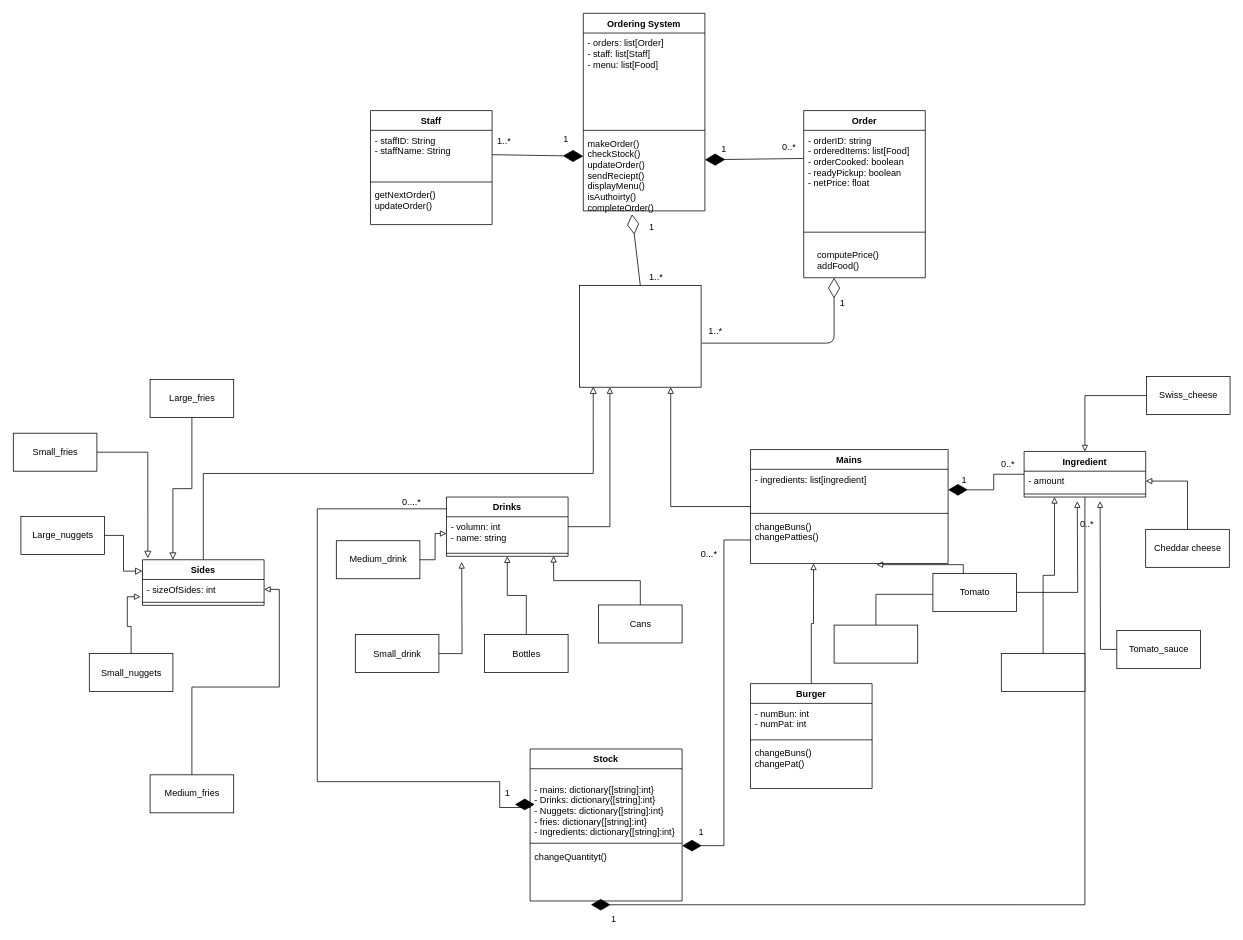
This 1243x940 diagram has some shape labels left out. Here are the shapes that lost their labels. From the top down, the centre of each, then its label:
At point (640, 336): "Food - name: String - price: float - availability: boolean computePrice()".
At point (875, 643): "Wrap".
At point (1043, 672): "Lettuce".
